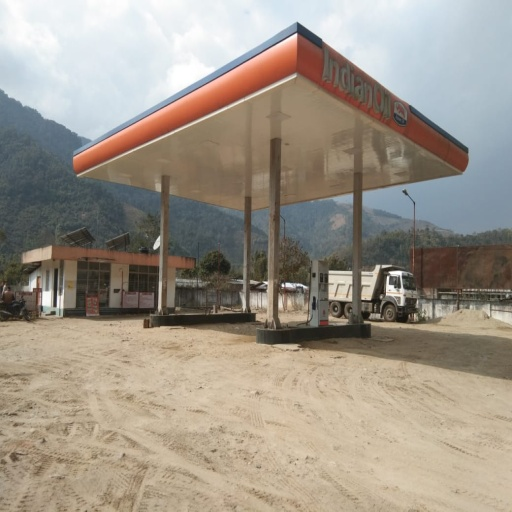roof: (75, 25, 467, 215)
